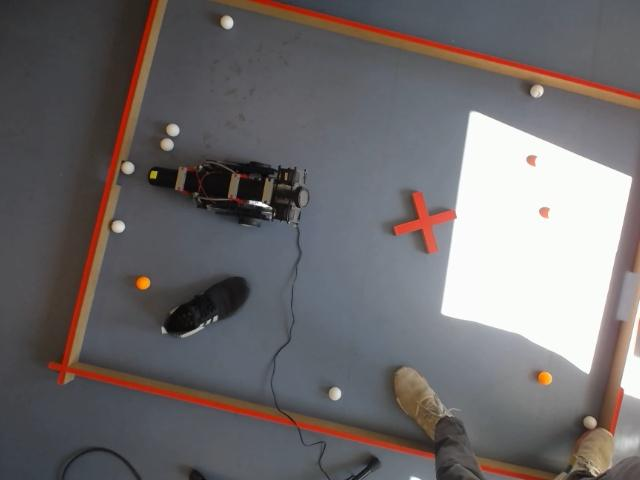orange: (136, 276, 151, 291), (538, 370, 552, 386)
robot: (148, 160, 310, 224)
robot-front: (148, 167, 172, 187)
white: (120, 161, 135, 176), (111, 219, 126, 234), (530, 84, 544, 99), (328, 386, 342, 401), (220, 15, 234, 30), (165, 123, 180, 137), (583, 415, 597, 429), (160, 138, 174, 151)
